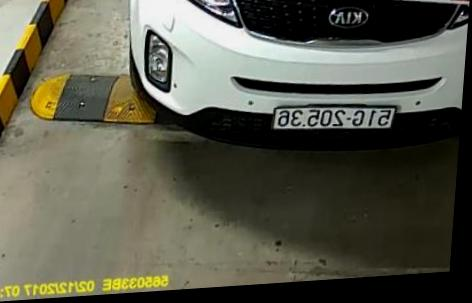License_Plate: (264, 98, 402, 141)
